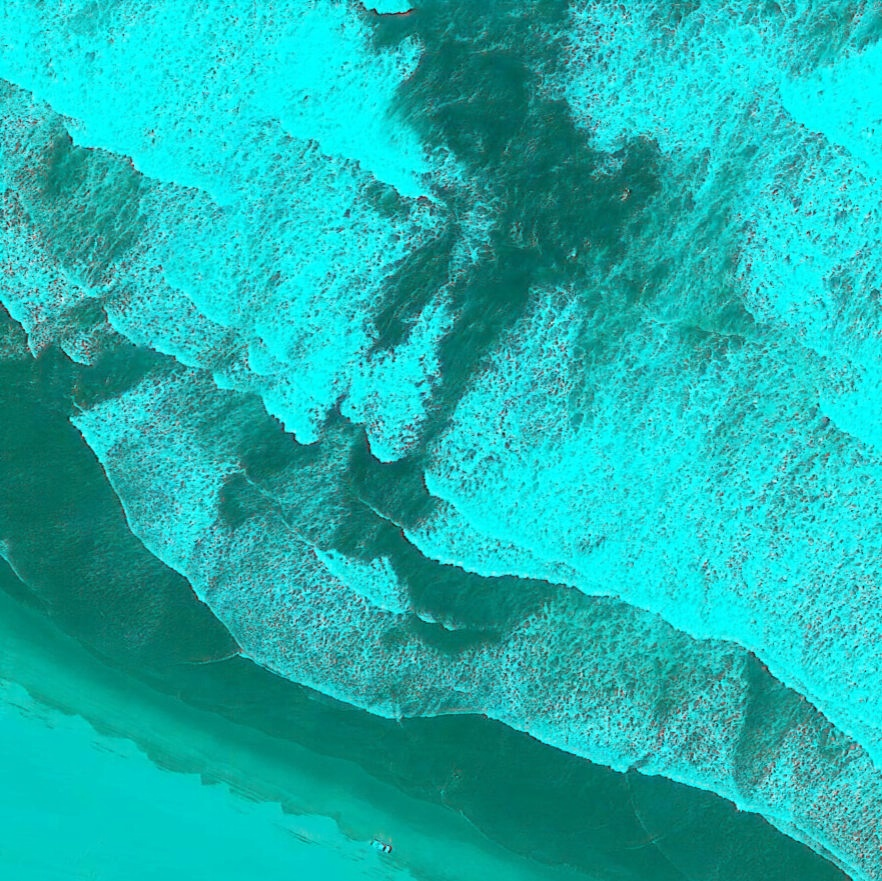rip_current: (287, 81, 658, 621)
